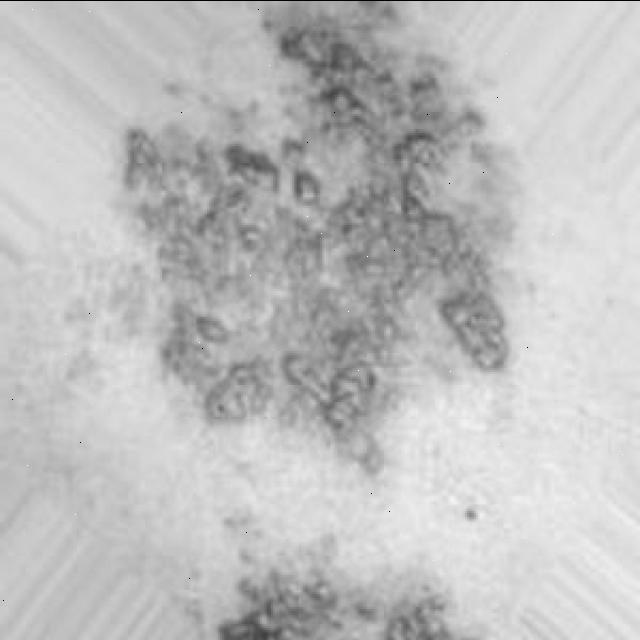Shingles: (123, 0, 510, 477), (213, 549, 452, 640)
